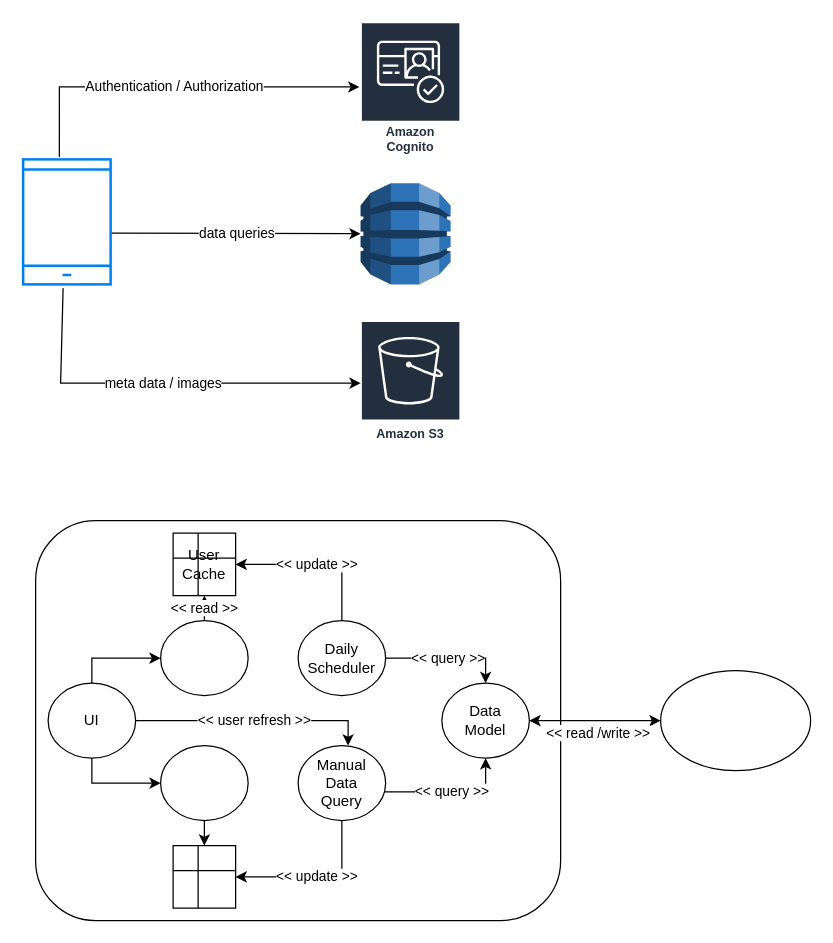
Image size: 833x943. Some labels were removed from this diagram. Here are the shapes that lost their labels. From the top down, the centre of each, then its label:
At pixel 203 657: "User Feed".
At pixel 735 720: "Aws Cloud Infra (DynamoDB/S3)".
At pixel 203 782: "Friends Feed".
At pixel 204 876: "Friends Cache".
